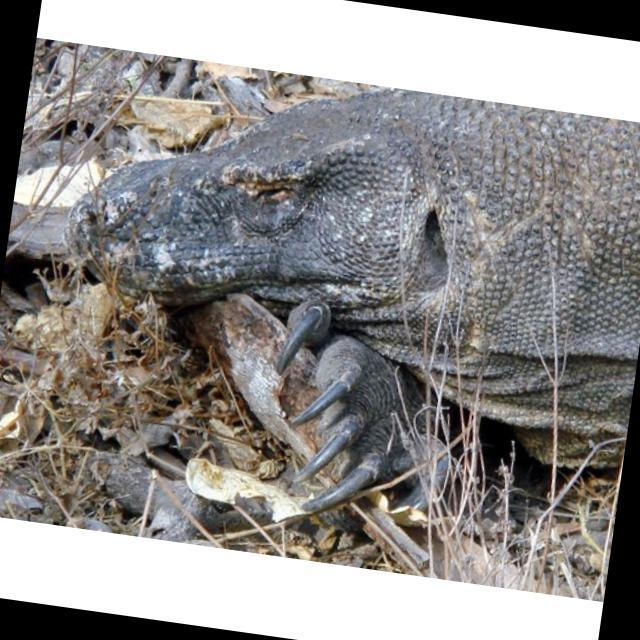KomodoDragon: (32, 46, 640, 556)
